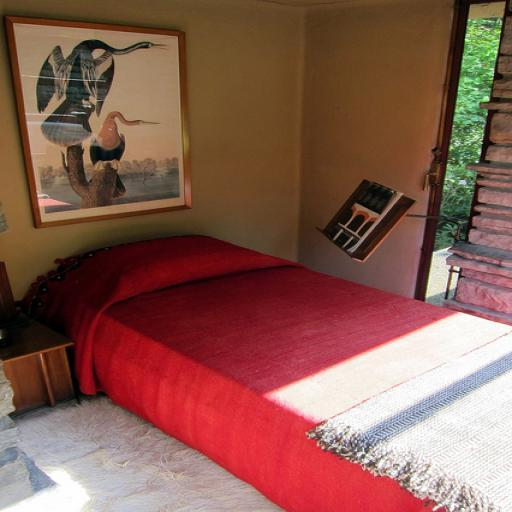bed: (48, 175, 512, 512)
